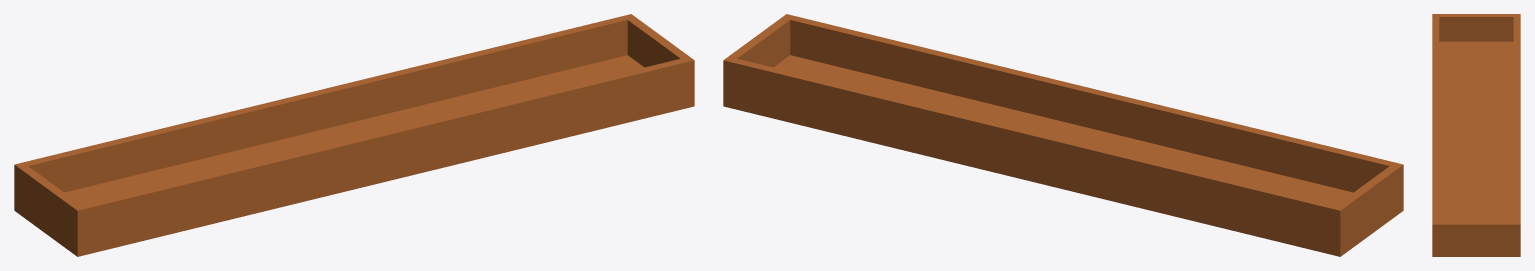
The model's file is trough_feed.fbx.
The picture shows the model from 3 angles, left to right: view 1: azimuth 30°, elevation 25°; view 2: azimuth 150°, elevation 25°; view 3: azimuth 270°, elevation 25°; orthographic projection. The views are drawn at different scales.
Visible parts, largest first — view 1: trough_feed.001; view 2: trough_feed.001; view 3: trough_feed.001.
Part boxes in pixels (x1,y1,x2,y2): trough_feed.001: (14, 14, 694, 256); trough_feed.001: (723, 14, 1403, 256); trough_feed.001: (1432, 14, 1520, 256).
Bounding box in the file's own units: 700 × 50 × 124.
Materials: 1 (1 with a texture image).
